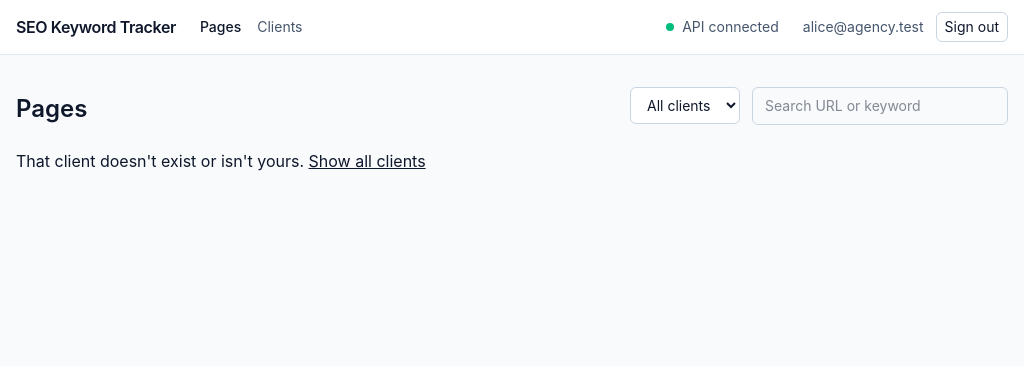
Test: sign out › ends the session and returns to login
What coordinates should you click on to do the following:
click the button "Sign out"
I would click on:
 (972, 27)
Its box is [936,12,1008,42].
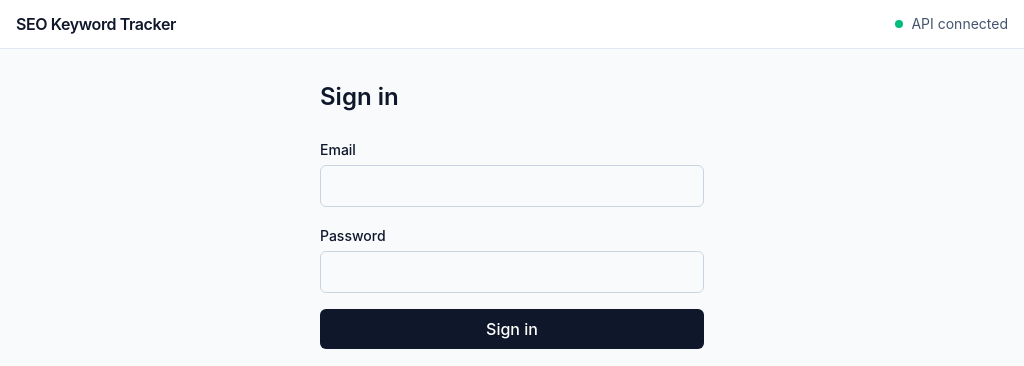
Result: the heading "Sign in" is shown at [320,82,399,111]
Result: the text "alice@agency.test" is gone
